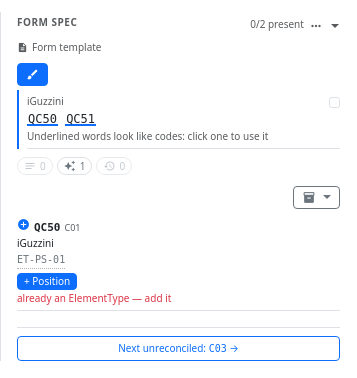
Test: 44VCYZ: a code still needs an ElementType; the known ones are compared with the recipe anyway, and the chip counts only the new one
This screenshot has width=357, height=378.
Click the button with test id "paint-position".
click(32, 74)  # box [17, 63, 48, 86]
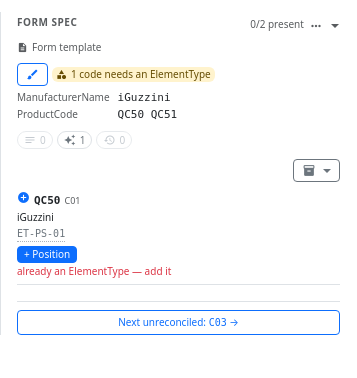
Expected: the text "ET-PS-01" is shown, [17, 228, 65, 239]
Result: the element with test id "compact-painter" is gone
Result: the element with test id "paint-status" reads "1 code needs an ElementType" at [71, 67, 211, 81]
